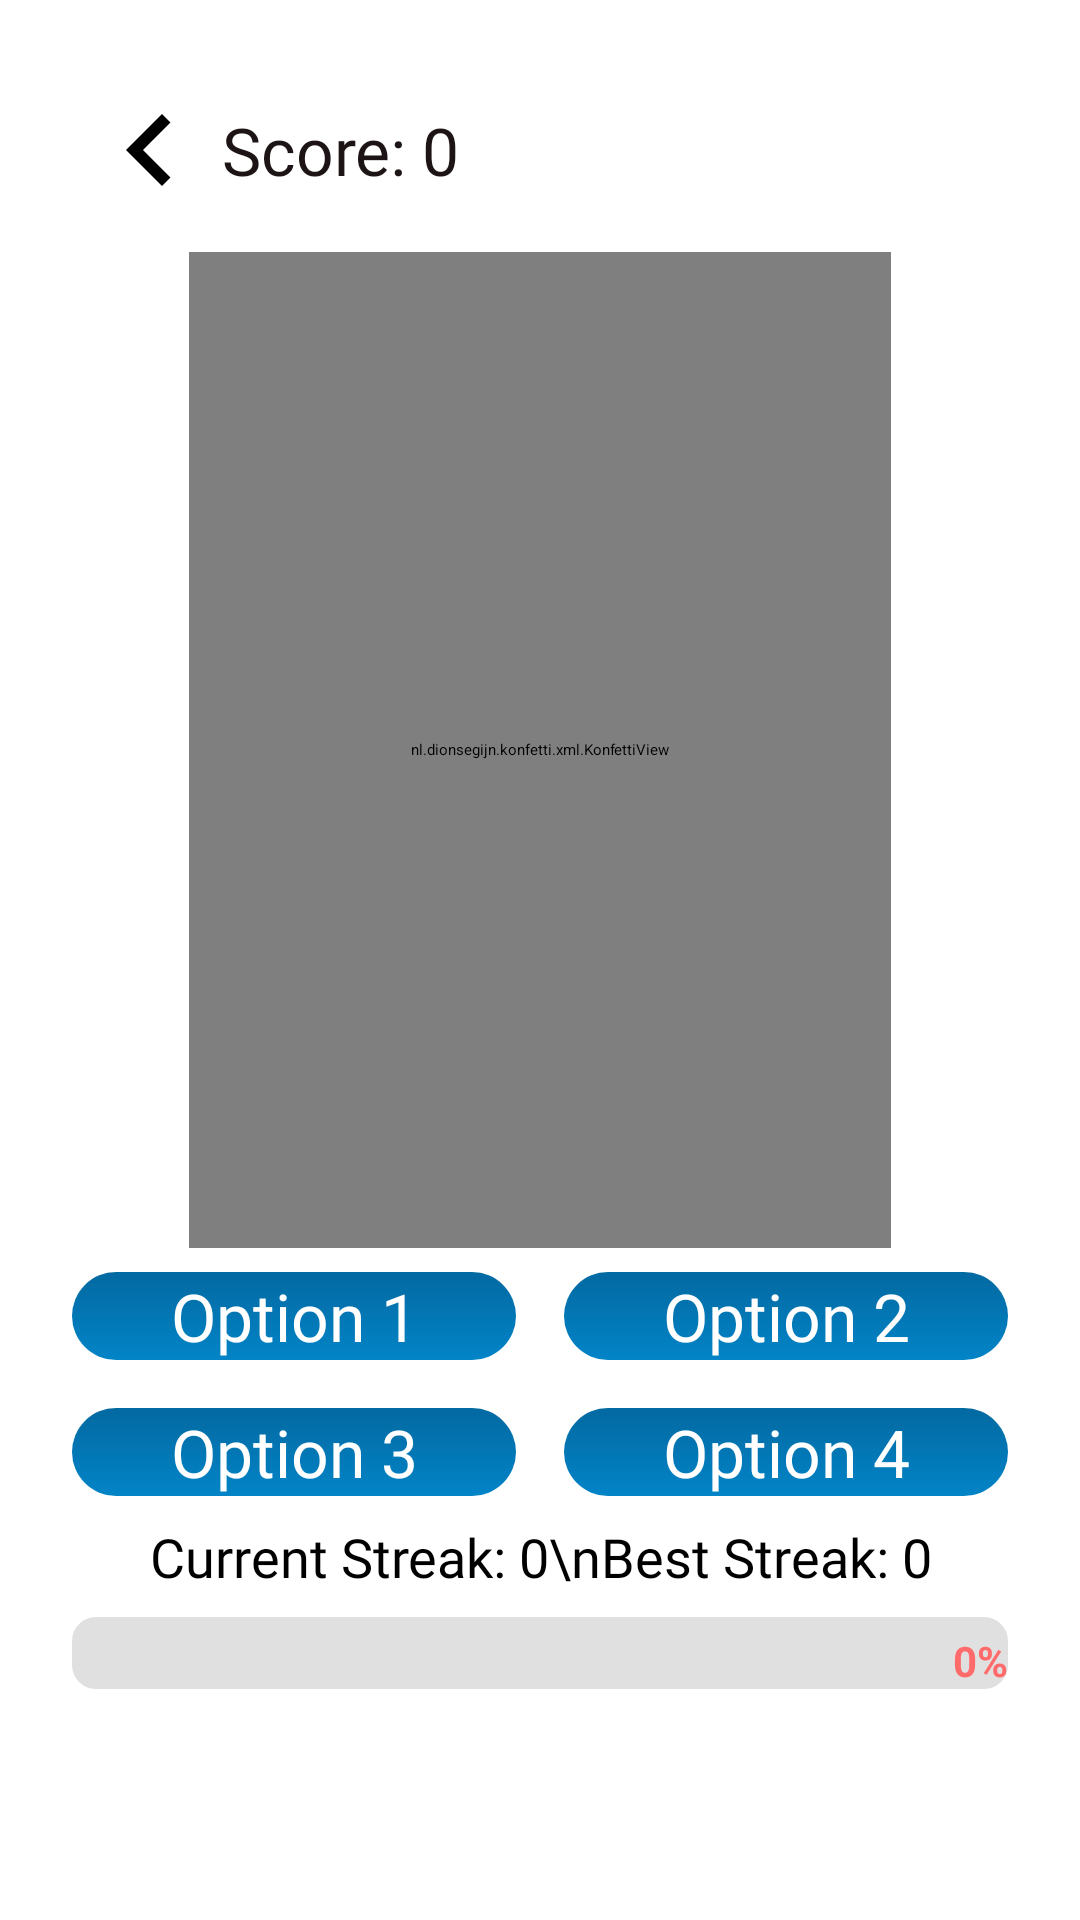

Screen size 1080*1920. Icon name, then its box in pixels as (x1, y1, x2, y2):
back: (126, 114, 171, 186)
